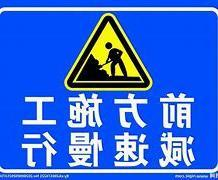sign: (1, 5, 216, 175)
